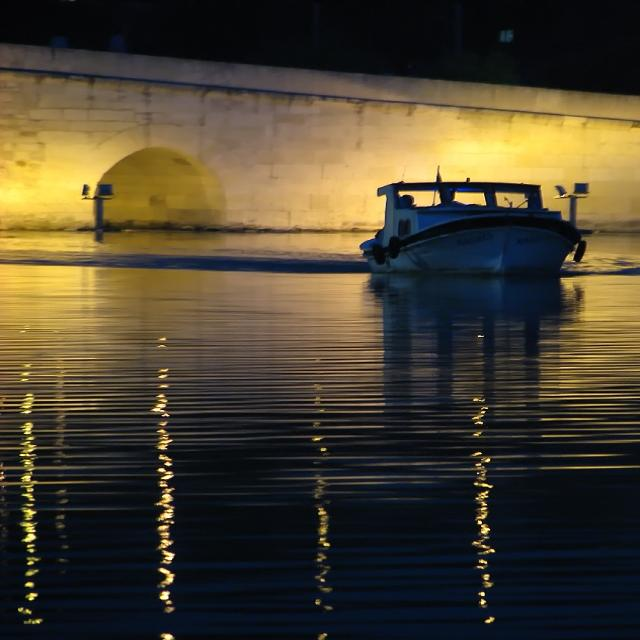Boat: (319, 157, 640, 307)
